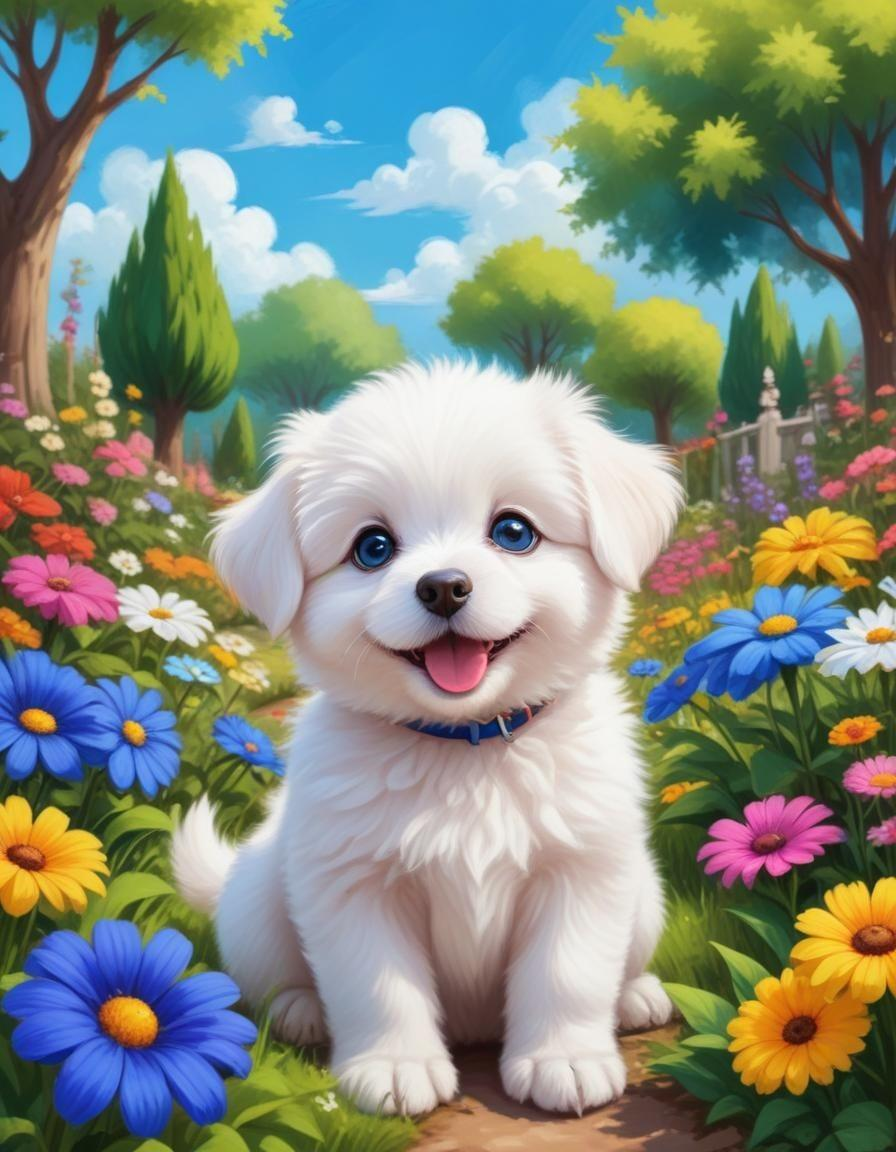puppy-dog: (168, 355, 689, 1121)
